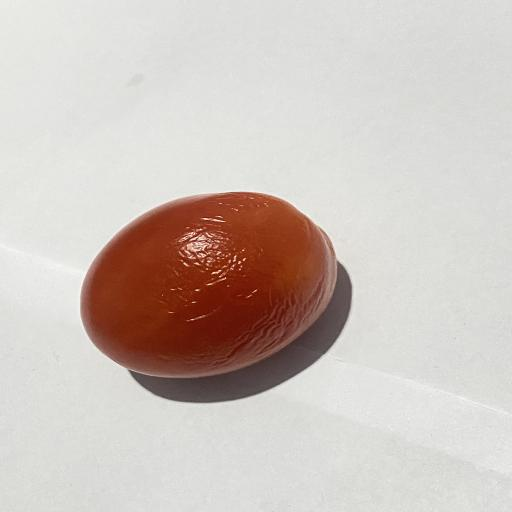spoiled: (81, 192, 337, 378)
